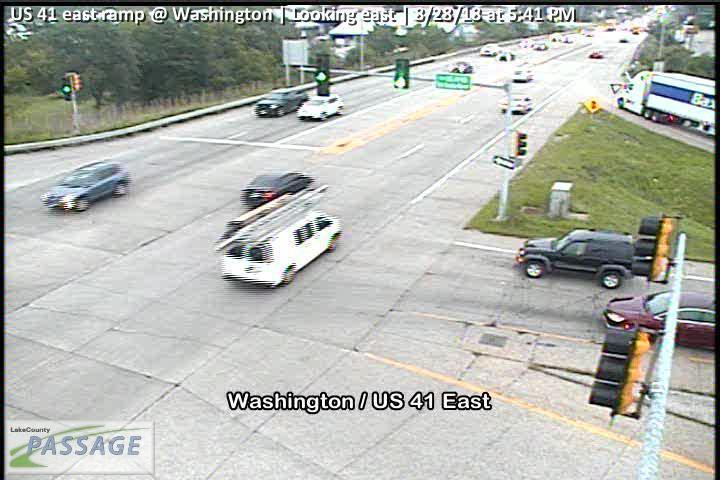SUV: (514, 228, 638, 290), (40, 158, 132, 211), (296, 92, 346, 123), (511, 65, 534, 83), (479, 41, 499, 55), (530, 39, 550, 52), (499, 48, 514, 63)
Sedan: (600, 289, 717, 355), (240, 169, 314, 208), (253, 86, 311, 118), (498, 93, 535, 115), (447, 59, 475, 75), (589, 49, 605, 59)
Truck: (215, 183, 343, 289), (612, 68, 720, 137)
